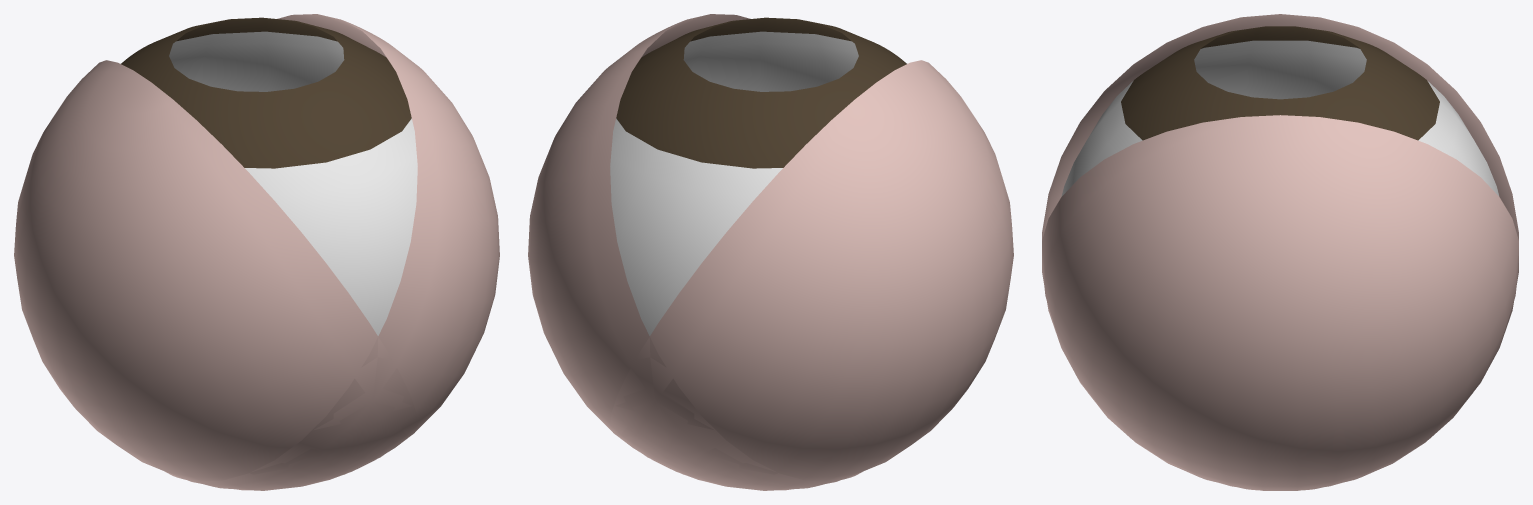
Rendered from eye 1.fbx.
The picture shows the model from 3 angles, left to right: view 1: azimuth 30°, elevation 25°; view 2: azimuth 150°, elevation 25°; view 3: azimuth 270°, elevation 25°; orthographic projection.
Parts seen in each view (by area): view 1: polySurface1, polySurface2; view 2: polySurface1, polySurface2; view 3: polySurface1, polySurface2.
Boxes of the visible parts, x1,y1,x2,y2 form: polySurface1: (14, 14, 499, 490); polySurface2: (121, 17, 417, 335); polySurface1: (528, 14, 1013, 490); polySurface2: (610, 17, 906, 335); polySurface1: (1042, 14, 1518, 490); polySurface2: (1061, 26, 1499, 196).
Size of the model in its own units: 4.21 by 4.11 by 4.21.
